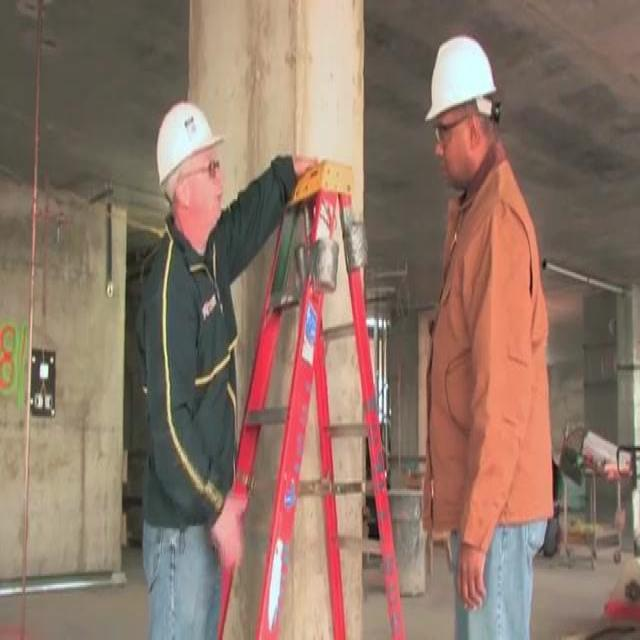Safety-Helmet: (146, 86, 231, 196), (422, 25, 501, 128)
